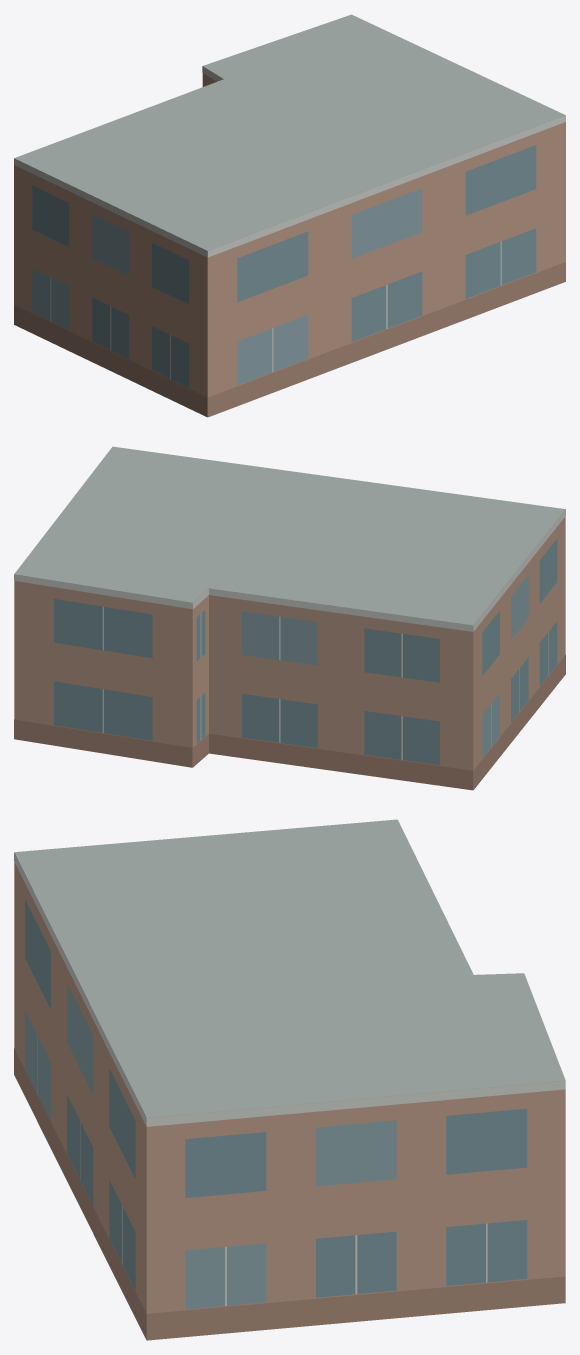
Rendered from survey-upis-32639627.glb.
3 renders of one model, top to bottom at view 1: azimuth 30°, elevation 25°; view 2: azimuth 150°, elevation 25°; view 3: azimuth 270°, elevation 25°, orthographic. The views are drawn at different scales.
Visible parts, largest first — view 1: survey-upis-32639627.tmp; view 2: survey-upis-32639627.tmp; view 3: survey-upis-32639627.tmp.
Part boxes in pixels (bbox=[...]): survey-upis-32639627.tmp: bbox=[14, 14, 565, 417]; survey-upis-32639627.tmp: bbox=[14, 446, 565, 790]; survey-upis-32639627.tmp: bbox=[14, 819, 565, 1340].
Bounding box in the file's own units: 17.57 × 6.1 × 13.72.
